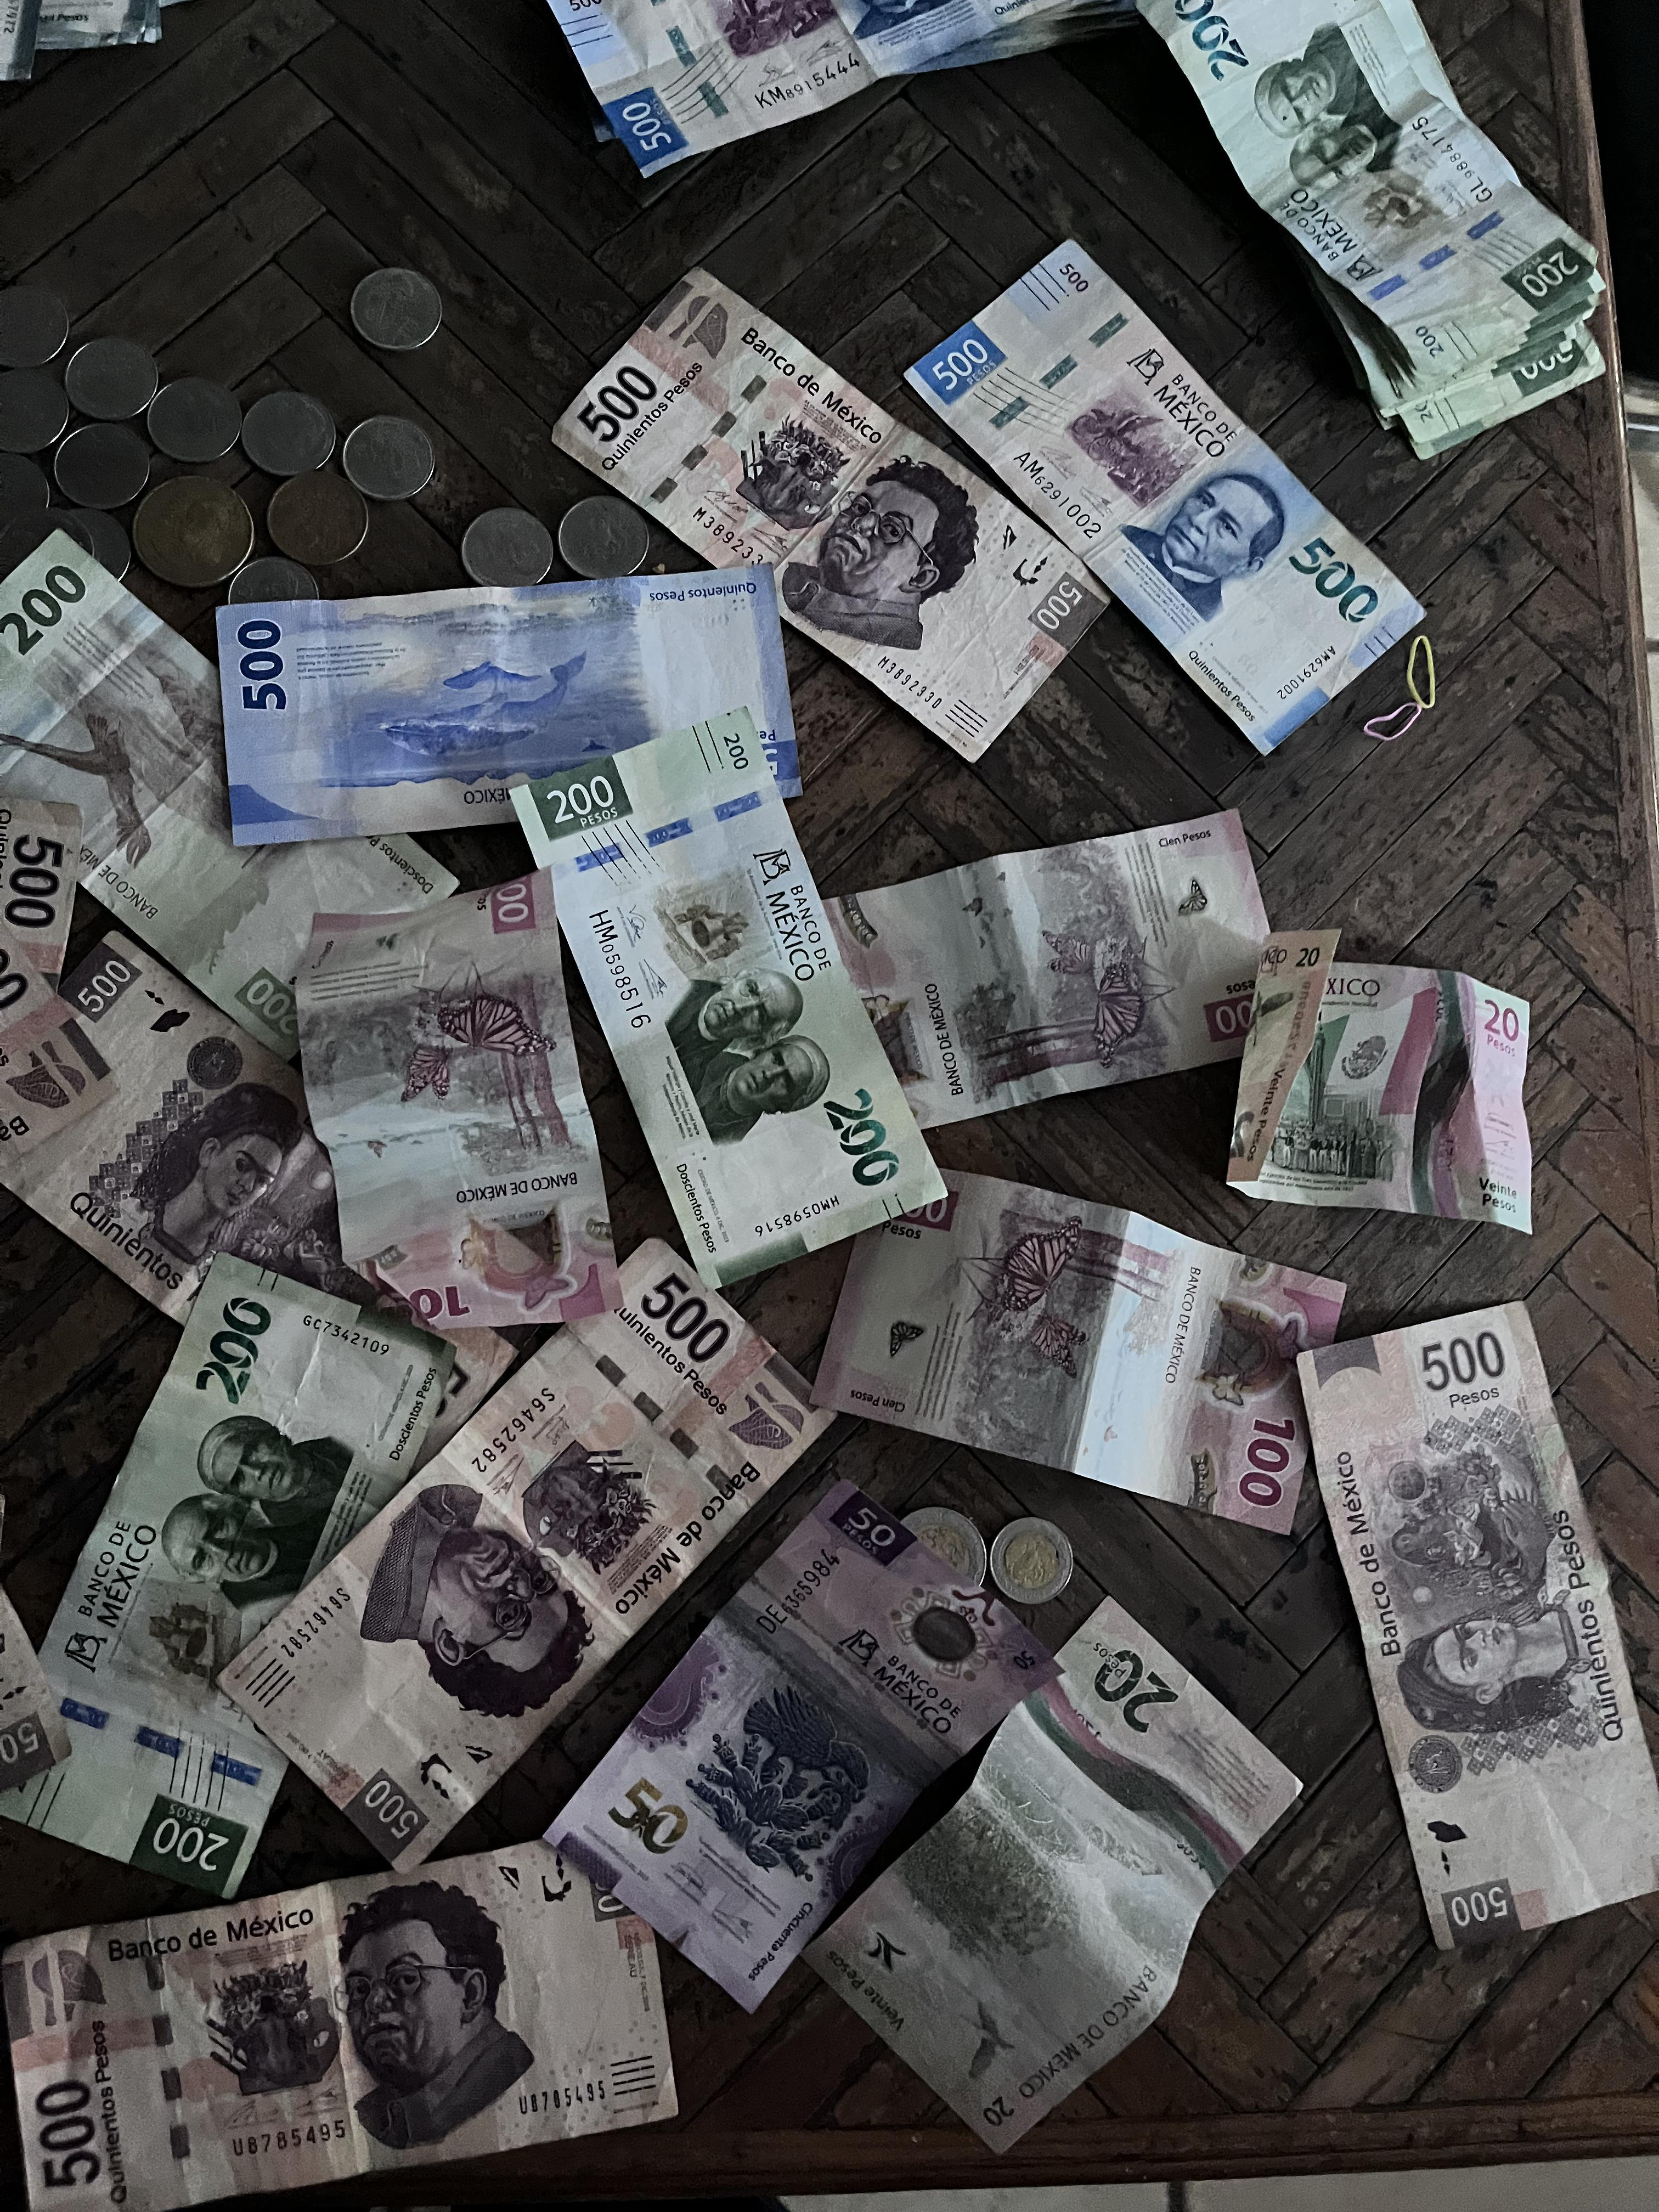100: (725, 1101, 1347, 1540), (249, 850, 676, 1378), (751, 801, 1295, 1137)
20: (838, 1581, 1270, 2165), (1190, 869, 1607, 1263)
200: (10, 1221, 430, 1949), (0, 519, 495, 1127), (507, 730, 964, 1273), (1150, 0, 1635, 455)
50: (540, 1435, 1065, 1996)
500: (272, 1202, 819, 1862), (1256, 1280, 1659, 1984), (558, 249, 1089, 773), (5, 1865, 678, 2212), (0, 777, 396, 1331)
500 nuevo: (908, 263, 1467, 787), (192, 554, 814, 834), (512, 0, 1140, 190)
